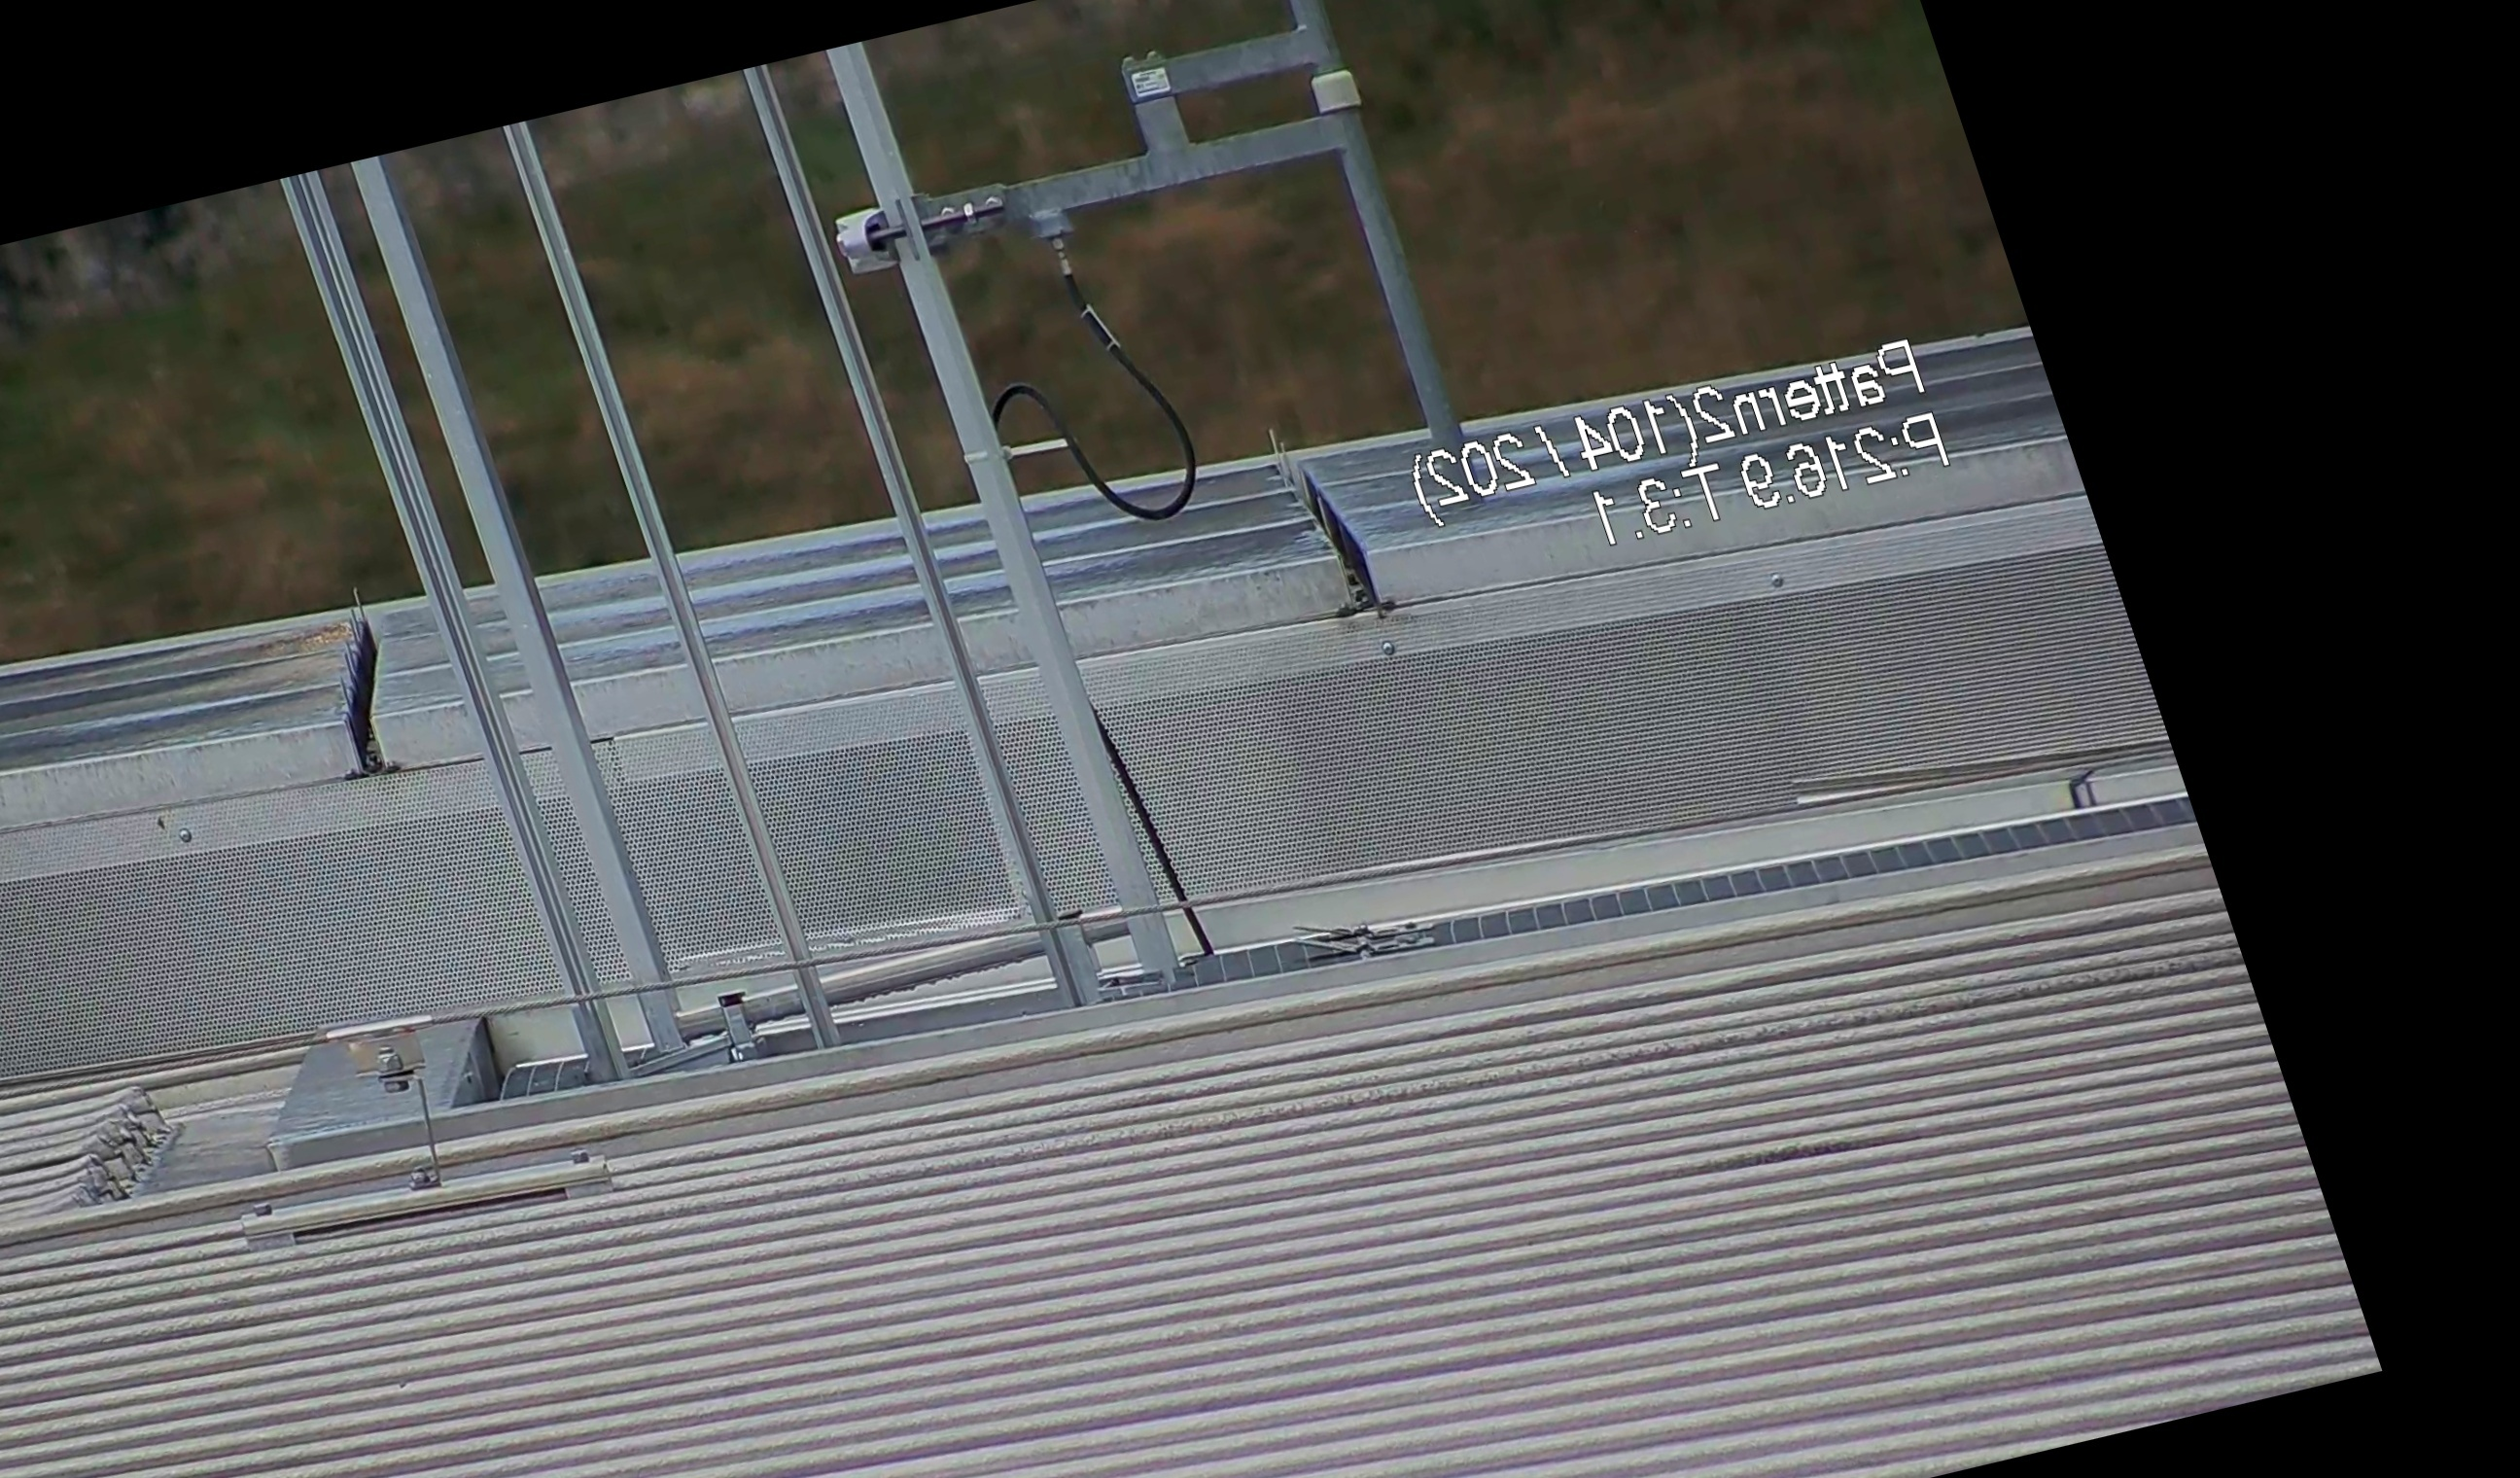Other: (273, 581, 429, 787)
